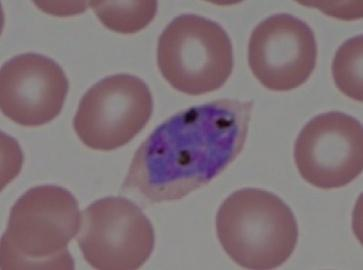Infected: (108, 63, 244, 169)
Uninfected: (65, 0, 149, 83), (208, 119, 290, 197), (129, 174, 205, 255), (207, 0, 291, 73), (46, 177, 116, 257), (0, 80, 69, 159), (282, 13, 354, 85), (294, 143, 363, 216)
